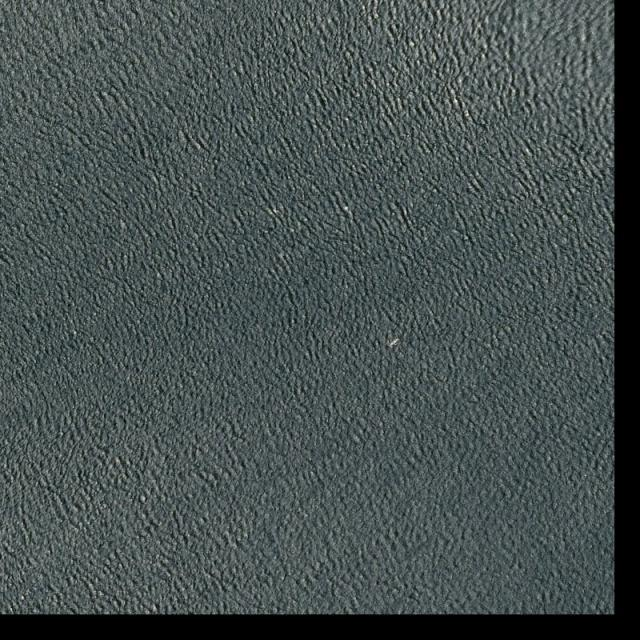ship: (387, 338, 401, 348)
